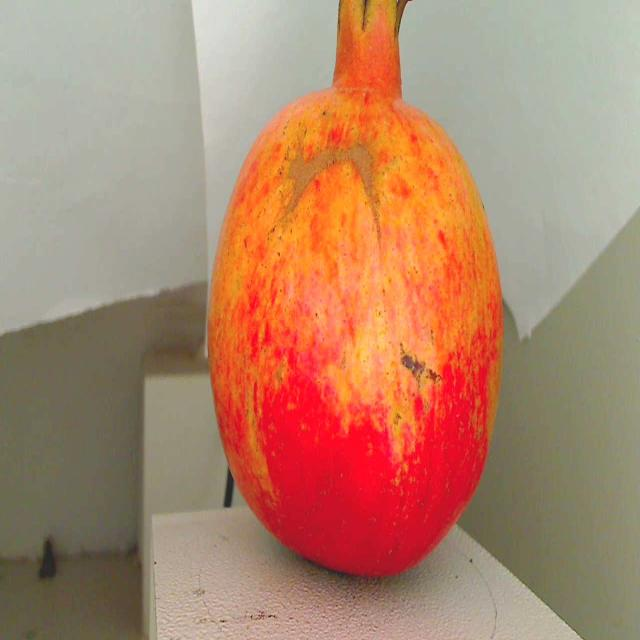pomegranate: (193, 0, 510, 588)
